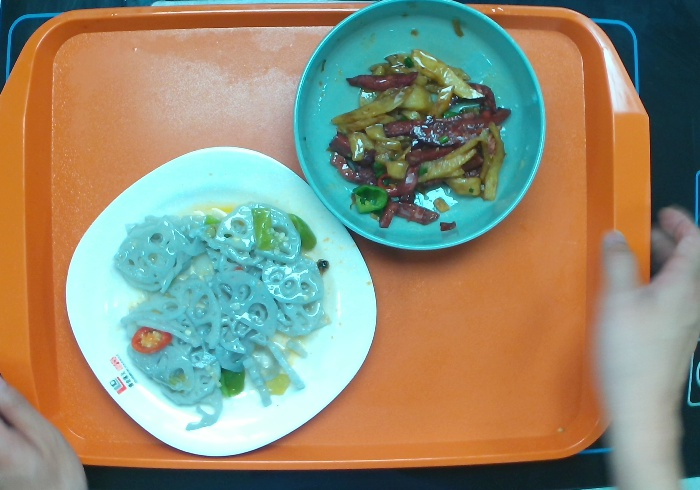ZNLD-Qing_Hua_Yuan_Wan: (285, 1, 551, 258)
ZNLD-Yuan_Jiao_Pan: (61, 141, 382, 461)
